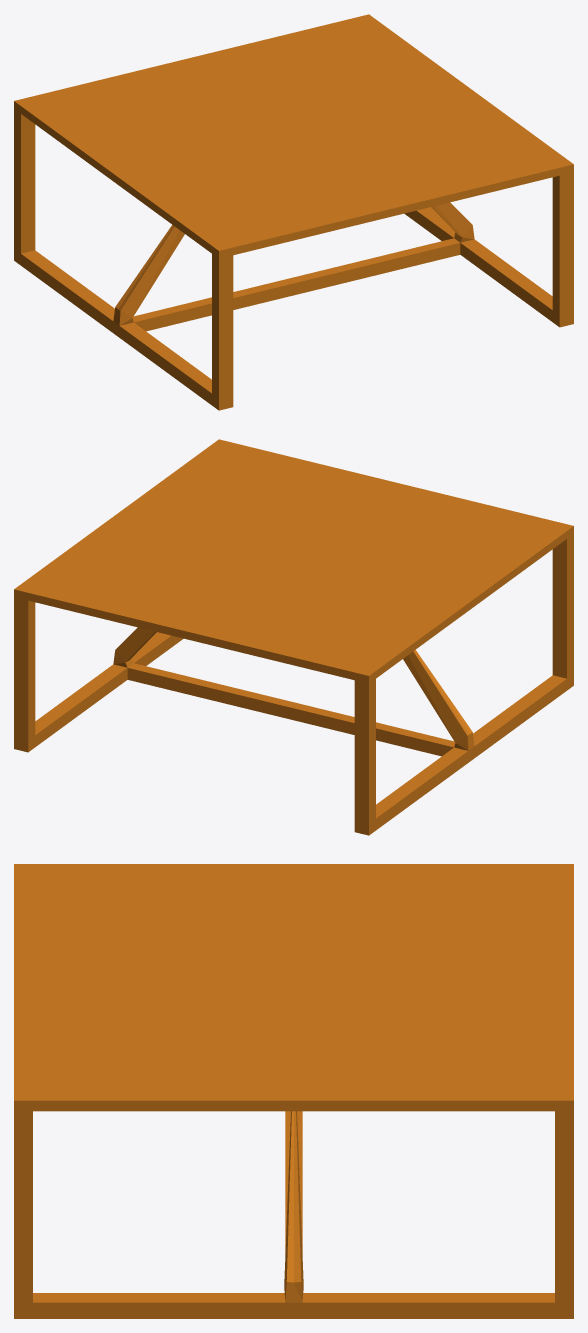
File: mini_table_visual.dae
The picture shows the model from 3 angles, top to bottom: view 1: azimuth 30°, elevation 25°; view 2: azimuth 150°, elevation 25°; view 3: azimuth 270°, elevation 25°; orthographic projection. The views are drawn at different scales.
Parts seen in each view (by area): view 1: Cube; view 2: Cube; view 3: Cube.
Boxes of the visible parts, x1,y1,x2,y2 form: Cube: (14, 14, 573, 410); Cube: (14, 439, 573, 835); Cube: (14, 864, 573, 1318).
Size of the model in its own units: 1.23 by 1.23 by 0.527.
